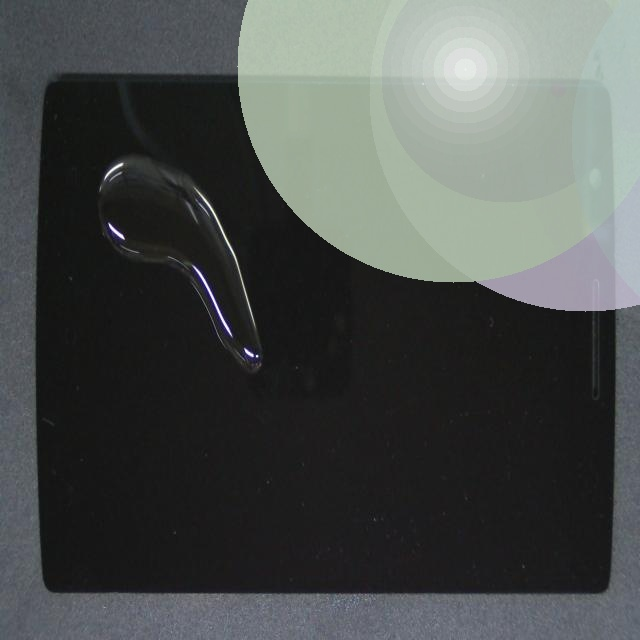oil: (96, 178, 375, 553)
